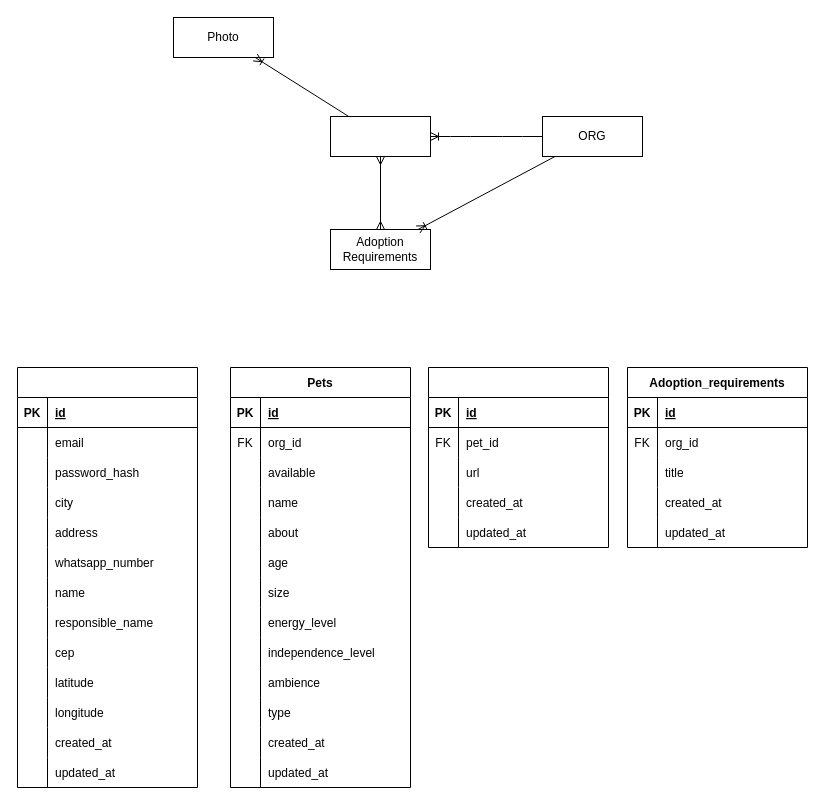
This 825x805 diagram has some shape labels left out. The box of each missing label's shape, as (x1, y1, x2, y2) in pixels:
Orgs: (16, 366, 198, 788)
Pet: (330, 116, 430, 156)
Photos: (428, 366, 608, 548)
